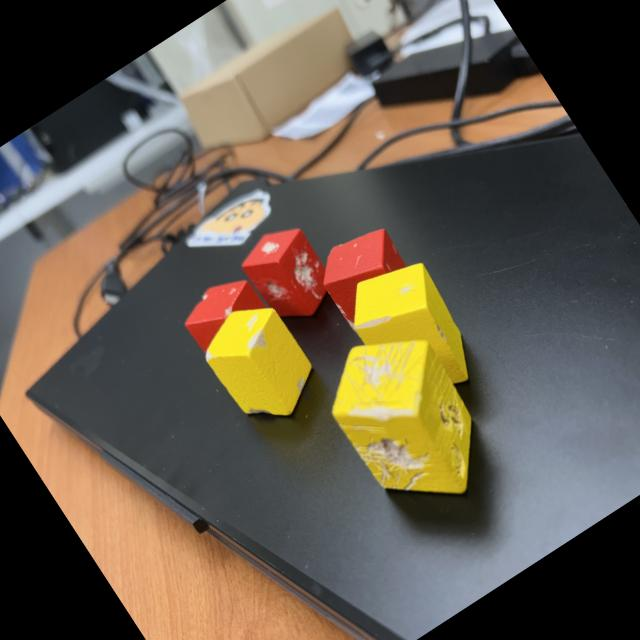broken: (306, 310, 509, 531), (334, 247, 489, 417), (192, 288, 330, 436), (172, 265, 292, 389), (233, 215, 344, 334), (307, 216, 420, 326)
